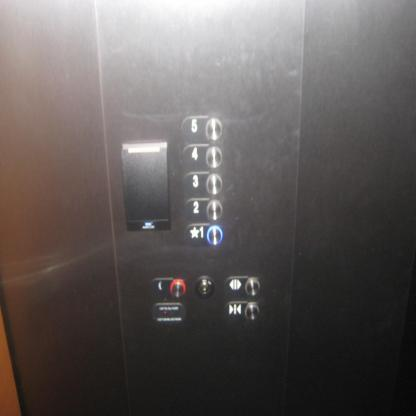2: (184, 197, 222, 222)
3: (183, 170, 223, 196)
4: (182, 143, 224, 170)
5: (181, 113, 223, 144)
call: (148, 276, 186, 299)
close: (223, 300, 260, 323)
keyhole: (193, 276, 214, 299)
open: (224, 276, 262, 296)
s1: (185, 223, 224, 246)
